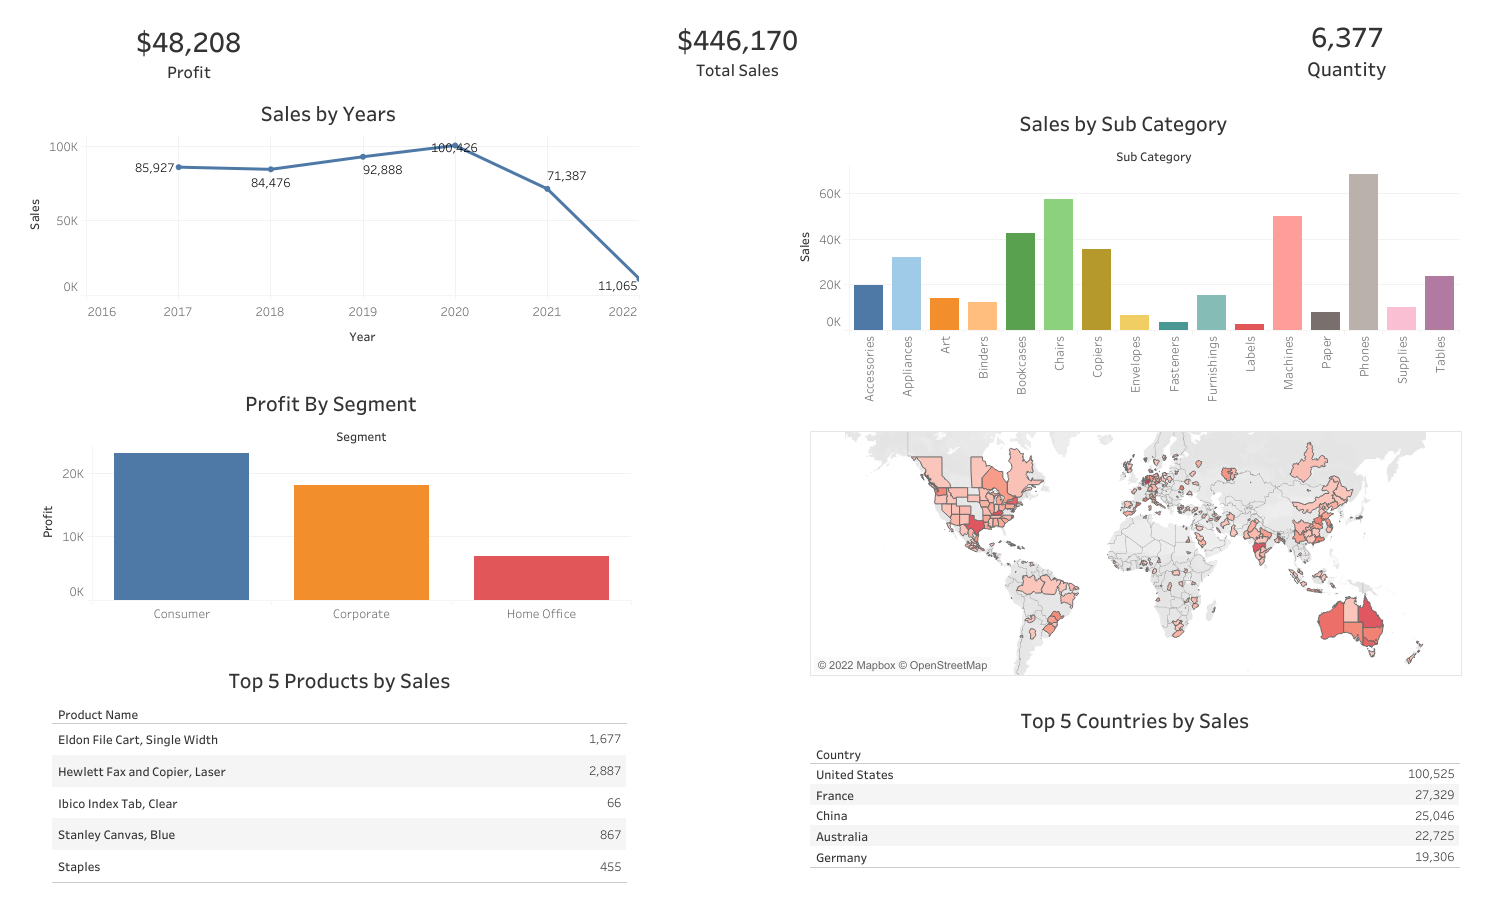

The dashboard page shown, as its layout file describes it:
{"tool":"tableau","page":{"name":"Dashboard 1","canvas":[1500,900],"ordinal":0},"visuals":[{"type":"worksheet","title":"Sheet 5","mark":"Automatic","box":[99,3,180,99]},{"type":"worksheet","title":"Sheet 4","mark":"Automatic","box":[652,3,172,96]},{"type":"worksheet","title":"Sheet 6","mark":"Automatic","box":[1247,17,201,66]},{"type":"worksheet","title":"Sheet 9","mark":"Automatic","rows":["sales"],"cols":["year"],"box":[18,93,621,259]},{"type":"worksheet","title":"Sheet 3","mark":"Automatic","rows":["sales"],"cols":["sub_category"],"box":[788,103,671,307]},{"type":"worksheet","title":"Sheet 1","mark":"Bar","rows":["profit"],"cols":["segment"],"box":[31,383,600,257]},{"type":"worksheet","title":"Sheet 2","mark":"Automatic","box":[810,431,652,245]},{"type":"worksheet","title":"Sheet 7","mark":"Automatic","rows":["product_name"],"box":[52,660,575,223]},{"type":"worksheet","title":"Sheet 10","mark":"Automatic","rows":["country"],"box":[810,700,650,168]}]}

Visuals, with their boxes in screenshot pixels (x1, y1, x2, y2), scaled from the page's 1500x900 canvas onto the 1499x899 screenshot:
"Sheet 5" worksheet: {"left": 99, "top": 3, "right": 279, "bottom": 102}
"Sheet 4" worksheet: {"left": 652, "top": 3, "right": 823, "bottom": 99}
"Sheet 6" worksheet: {"left": 1246, "top": 17, "right": 1447, "bottom": 83}
"Sheet 9" worksheet: {"left": 18, "top": 93, "right": 639, "bottom": 352}
"Sheet 3" worksheet: {"left": 787, "top": 103, "right": 1458, "bottom": 410}
"Sheet 1" worksheet (Bar marks): {"left": 31, "top": 383, "right": 631, "bottom": 639}
"Sheet 2" worksheet: {"left": 809, "top": 431, "right": 1461, "bottom": 675}
"Sheet 7" worksheet: {"left": 52, "top": 659, "right": 627, "bottom": 882}
"Sheet 10" worksheet: {"left": 809, "top": 699, "right": 1459, "bottom": 867}
